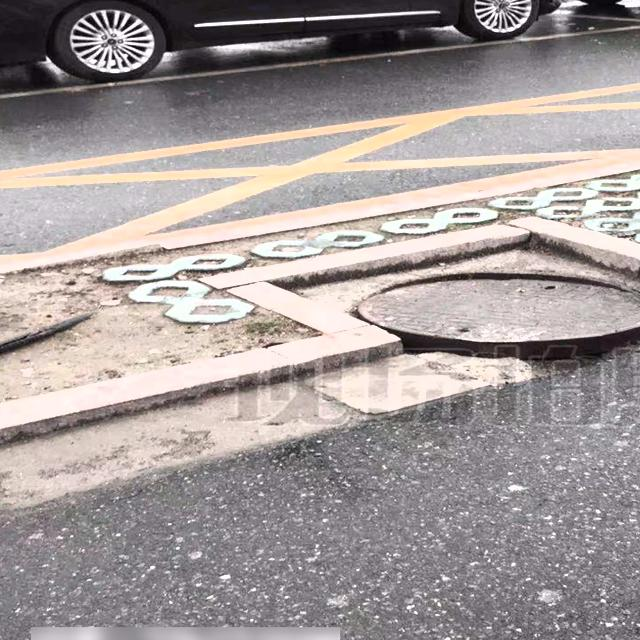uncovered: (353, 275, 640, 363)
